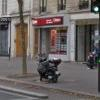Motorcycle: (31, 51, 73, 92)
